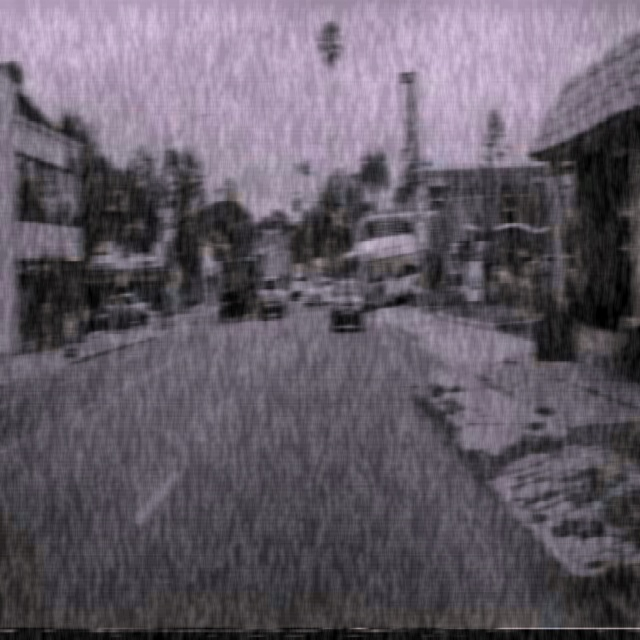dip: (409, 178, 430, 216)
